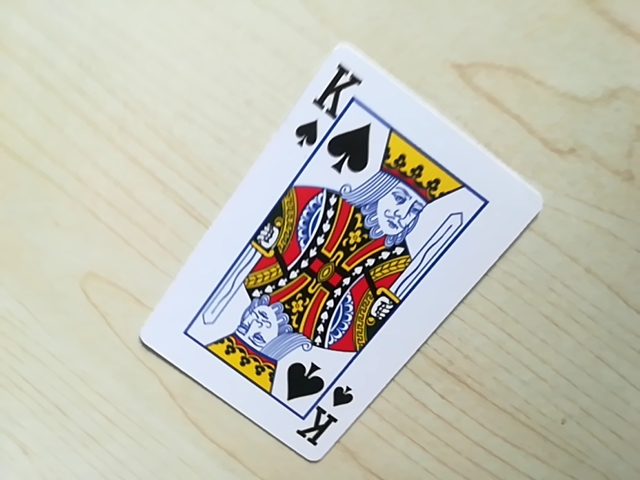ht k: (294, 54, 367, 162), (285, 379, 357, 454)
